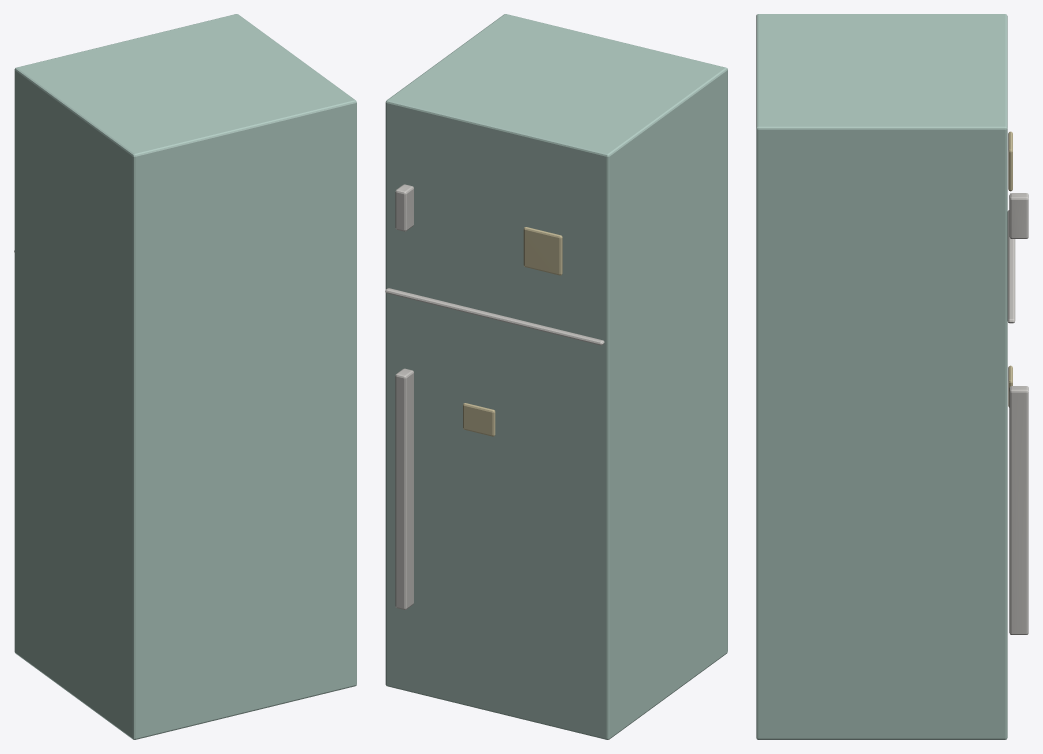
The model's file is furn_fridge__mint.glb.
3 views of the same model, side by side, from view 1: azimuth 30°, elevation 25°; view 2: azimuth 150°, elevation 25°; view 3: azimuth 270°, elevation 25° (orthographic). The views are drawn at different scales.
Bounding box in the file's own units: 0.7 × 1.75 × 0.705.
